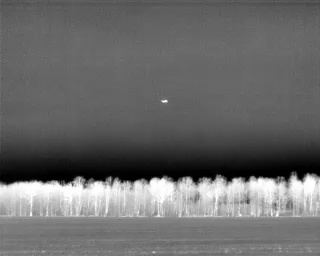DRONE: (158, 96, 171, 107)
